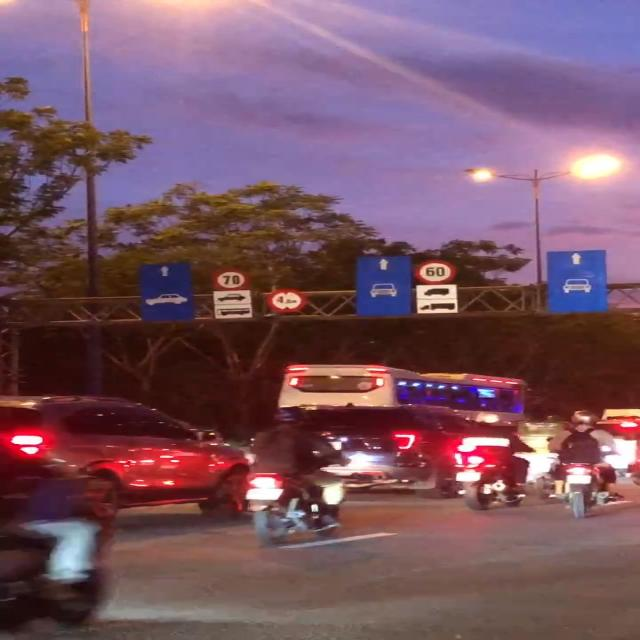Bien bao han che chieu cao: (265, 284, 311, 315)
Bien bao toc do toi da cho phep: (410, 258, 465, 288), (204, 263, 247, 294)
